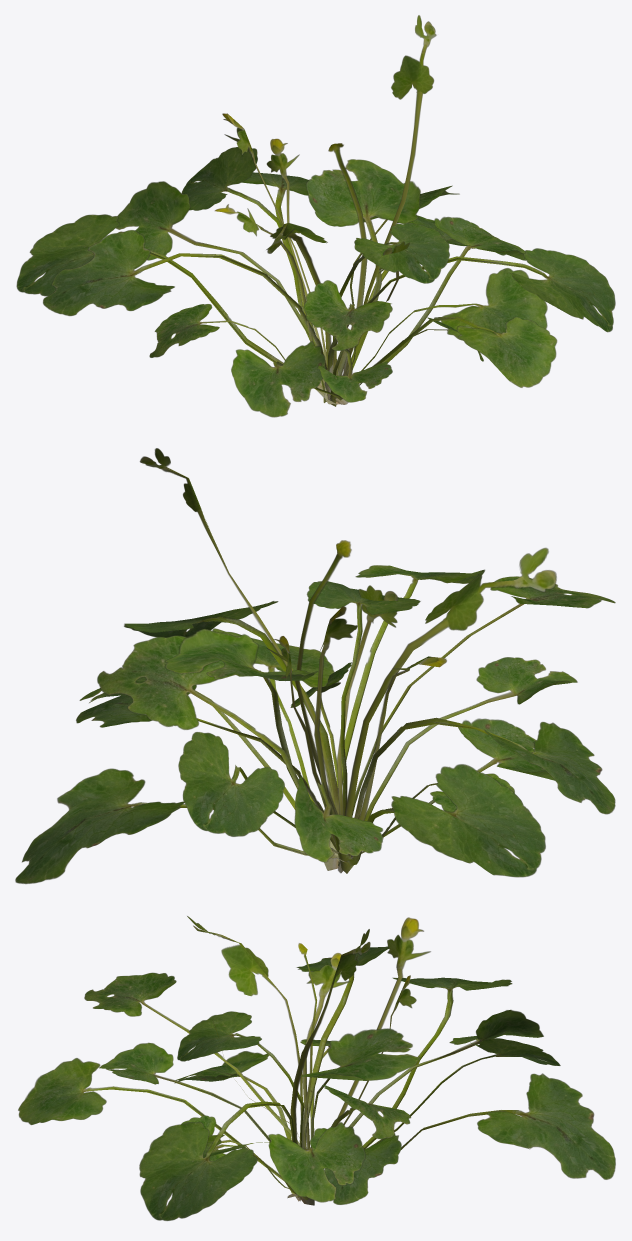
The model's file is celandine.glb.
3 views of the same model, one above another, from view 1: azimuth 30°, elevation 25°; view 2: azimuth 150°, elevation 25°; view 3: azimuth 270°, elevation 25° (orthographic). The views are drawn at different scales.
Visible parts, largest first — view 1: celandine_01_b_LOD0, celandine_01_a_LOD0, celandine_01_e_LOD0; view 2: celandine_01_b_LOD0, celandine_01_a_LOD0, celandine_01_e_LOD0; view 3: celandine_01_b_LOD0, celandine_01_a_LOD0, celandine_01_e_LOD0.
Part boxes in pixels (bbox=[...]): celandine_01_b_LOD0: bbox=[16, 143, 557, 417]; celandine_01_a_LOD0: bbox=[43, 15, 615, 406]; celandine_01_e_LOD0: bbox=[149, 138, 547, 404]; celandine_01_b_LOD0: bbox=[15, 540, 615, 883]; celandine_01_a_LOD0: bbox=[76, 448, 615, 873]; celandine_01_e_LOD0: bbox=[97, 585, 522, 862]; celandine_01_b_LOD0: bbox=[18, 943, 615, 1202]; celandine_01_a_LOD0: bbox=[99, 916, 543, 1220]; celandine_01_e_LOD0: bbox=[139, 975, 560, 1197].
Size of the model in its own units: 0.2757 by 0.1859 by 0.3067.
1 material, 1 textured.
